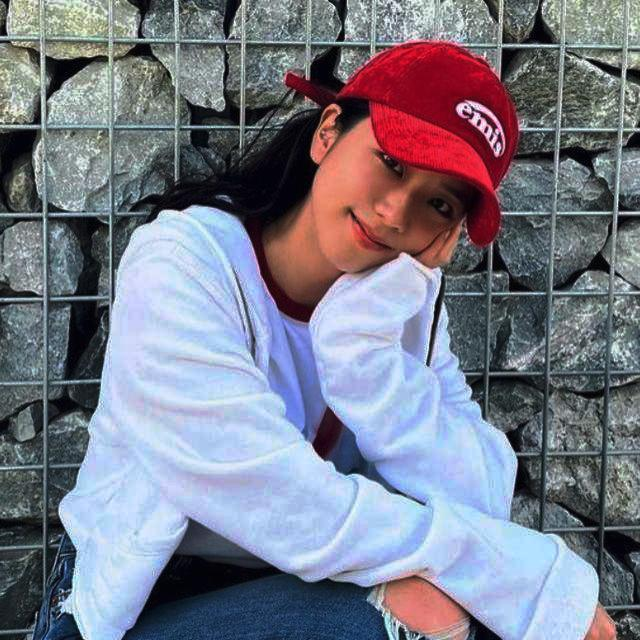TOPI: (286, 40, 520, 246)
